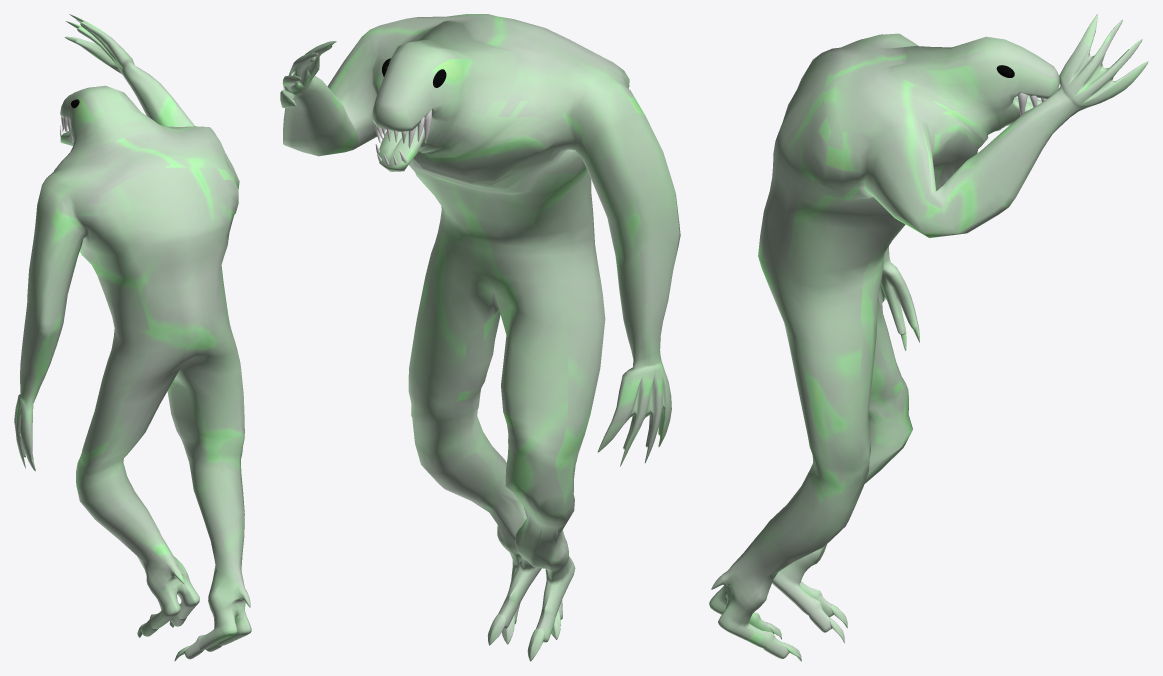
Rendered from Berserkercorrer.0039.obj.
The picture shows the model from 3 angles, left to right: view 1: azimuth 30°, elevation 25°; view 2: azimuth 150°, elevation 25°; view 3: azimuth 270°, elevation 25°; orthographic projection. The views are drawn at different scales.
Visible parts, largest first — view 1: polySurface27; view 2: polySurface27; view 3: polySurface27.
Part boxes in pixels (x1,y1,x2,y2): polySurface27: [14, 14, 251, 661]; polySurface27: [280, 14, 680, 661]; polySurface27: [709, 14, 1148, 661].
Bounding box in the file's own units: 11.41 × 24.32 × 14.87.
1 material, 1 textured.
